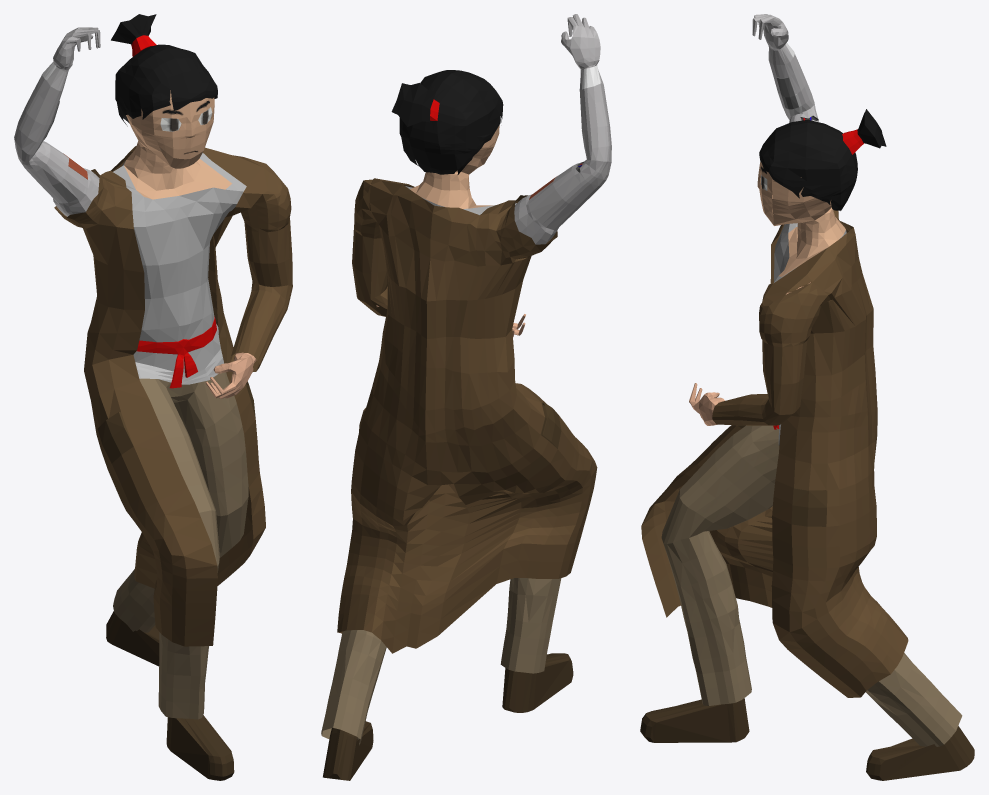
File: Special_Attack_000009.obj
The picture shows the model from 3 angles, left to right: view 1: azimuth 30°, elevation 25°; view 2: azimuth 150°, elevation 25°; view 3: azimuth 270°, elevation 25°; orthographic projection. The views are drawn at different scales.
Visible parts, largest first — view 1: Hair_Cube.004; view 2: Hair_Cube.004; view 3: Hair_Cube.004.
Part boxes in pixels (x1=…): Hair_Cube.004: x1=14, y1=14, x2=292, y2=780; Hair_Cube.004: x1=321, y1=14, x2=611, y2=780; Hair_Cube.004: x1=640, y1=14, x2=974, y2=780.
Bounding box in the file's own units: 1.5 × 3.92 × 1.73.
